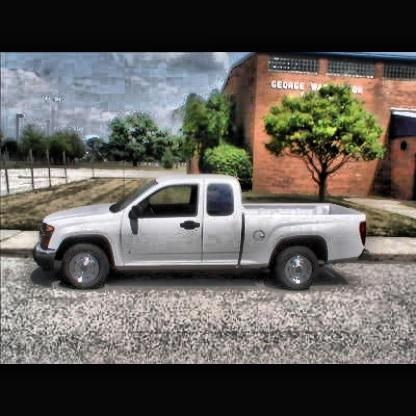GMC Canyon Extended Cab 2012: (34, 174, 370, 292)
